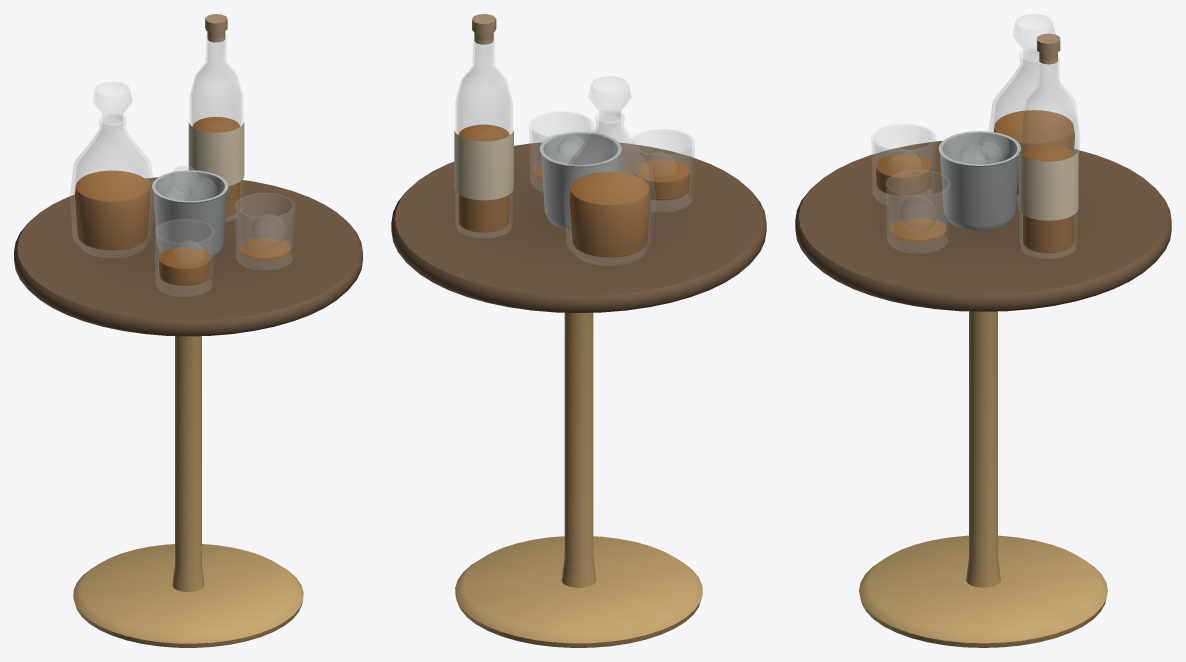
File: whiskey-side-table-lod0.glb
3 renders of one model, left to right at view 1: azimuth 30°, elevation 25°; view 2: azimuth 150°, elevation 25°; view 3: azimuth 270°, elevation 25°, orthographic. The views are drawn at different scales.
Visible parts, largest first — view 1: whiskey-side-table.lod0__dining smoked oak, whiskey-side-table.lod0__furniture brushed brass, whiskey-side-table.lod0__whiskey crystal, whiskey-side-table.lod0__whiskey amber, whiskey-side-table.lod0__furniture polished nickel, whiskey-side-table.lod0__whiskey label cream, whiskey-side-table.lod0__whiskey ice, whiskey-side-table.lod0__whiskey cork; view 2: whiskey-side-table.lod0__dining smoked oak, whiskey-side-table.lod0__furniture brushed brass, whiskey-side-table.lod0__whiskey crystal, whiskey-side-table.lod0__whiskey amber, whiskey-side-table.lod0__furniture polished nickel, whiskey-side-table.lod0__whiskey label cream, whiskey-side-table.lod0__whiskey ice, whiskey-side-table.lod0__whiskey cork; view 3: whiskey-side-table.lod0__dining smoked oak, whiskey-side-table.lod0__furniture brushed brass, whiskey-side-table.lod0__whiskey crystal, whiskey-side-table.lod0__whiskey amber, whiskey-side-table.lod0__furniture polished nickel, whiskey-side-table.lod0__whiskey label cream, whiskey-side-table.lod0__whiskey ice, whiskey-side-table.lod0__whiskey cork.
Part boxes in pixels (<box>): whiskey-side-table.lod0__dining smoked oak: <box>14,177,362,336</box>; whiskey-side-table.lod0__furniture brushed brass: <box>73,336,303,647</box>; whiskey-side-table.lod0__whiskey crystal: <box>70,35,294,296</box>; whiskey-side-table.lod0__whiskey amber: <box>75,117,290,285</box>; whiskey-side-table.lod0__furniture polished nickel: <box>152,170,228,258</box>; whiskey-side-table.lod0__whiskey label cream: <box>188,122,244,185</box>; whiskey-side-table.lod0__whiskey ice: <box>163,165,285,254</box>; whiskey-side-table.lod0__whiskey cork: <box>205,14,227,42</box>; whiskey-side-table.lod0__dining smoked oak: <box>391,142,766,312</box>; whiskey-side-table.lod0__furniture brushed brass: <box>455,312,702,647</box>; whiskey-side-table.lod0__whiskey crystal: <box>455,36,694,265</box>; whiskey-side-table.lod0__whiskey amber: <box>458,124,689,257</box>; whiskey-side-table.lod0__furniture polished nickel: <box>540,131,621,229</box>; whiskey-side-table.lod0__whiskey label cream: <box>454,130,513,200</box>; whiskey-side-table.lod0__whiskey ice: <box>540,134,675,166</box>; whiskey-side-table.lod0__whiskey cork: <box>472,14,496,44</box>; whiskey-side-table.lod0__dining smoked oak: <box>795,141,1171,311</box>; whiskey-side-table.lod0__furniture brushed brass: <box>859,311,1107,647</box>; whiskey-side-table.lod0__whiskey crystal: <box>871,14,1079,258</box>; whiskey-side-table.lod0__whiskey amber: <box>876,110,1074,252</box>; whiskey-side-table.lod0__furniture polished nickel: <box>938,131,1020,230</box>; whiskey-side-table.lod0__whiskey label cream: <box>1018,150,1078,220</box>; whiskey-side-table.lod0__whiskey ice: <box>886,132,1009,232</box>; whiskey-side-table.lod0__whiskey cork: <box>1037,33,1060,64</box>.
Size of the model in its own units: 0.52 by 0.896 by 0.52.
